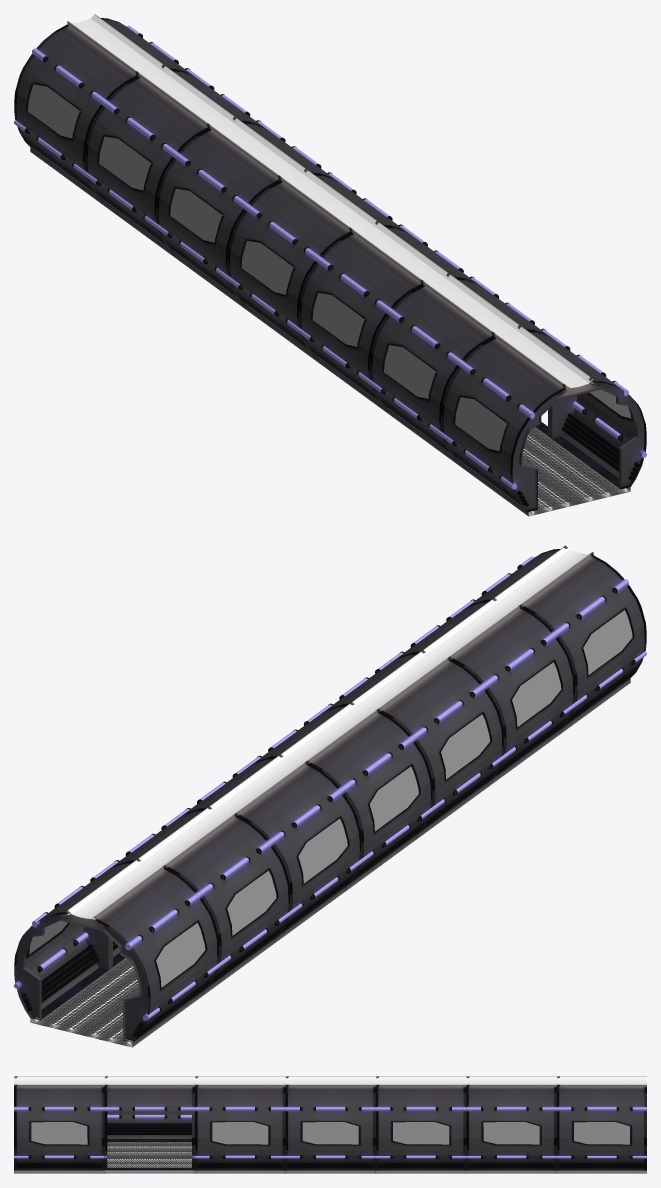
The model's file is Corridoio_completo_DUE_corridoio_n1.fbx.
The picture shows the model from 3 angles, top to bottom: view 1: azimuth 30°, elevation 25°; view 2: azimuth 150°, elevation 25°; view 3: azimuth 270°, elevation 25°; orthographic projection. The views are drawn at different scales.
Parts seen in each view (by area): view 1: Corridoio, Vetri, Pavimento; view 2: Corridoio, Vetri, Pavimento; view 3: Corridoio, Vetri, Pavimento.
Part boxes in pixels (x1,y1,x2,y2): Corridoio: [14, 14, 646, 516]; Vetri: [28, 84, 630, 451]; Pavimento: [515, 427, 620, 509]; Corridoio: [14, 545, 646, 1047]; Vetri: [29, 610, 632, 987]; Pavimento: [40, 958, 145, 1040]; Corridoio: [14, 1076, 646, 1173]; Vetri: [31, 1122, 629, 1144]; Pavimento: [107, 1142, 191, 1167].
Size of the model in its own units: 7.1 by 6.1 by 45.28.
7 materials, 6 textured.
